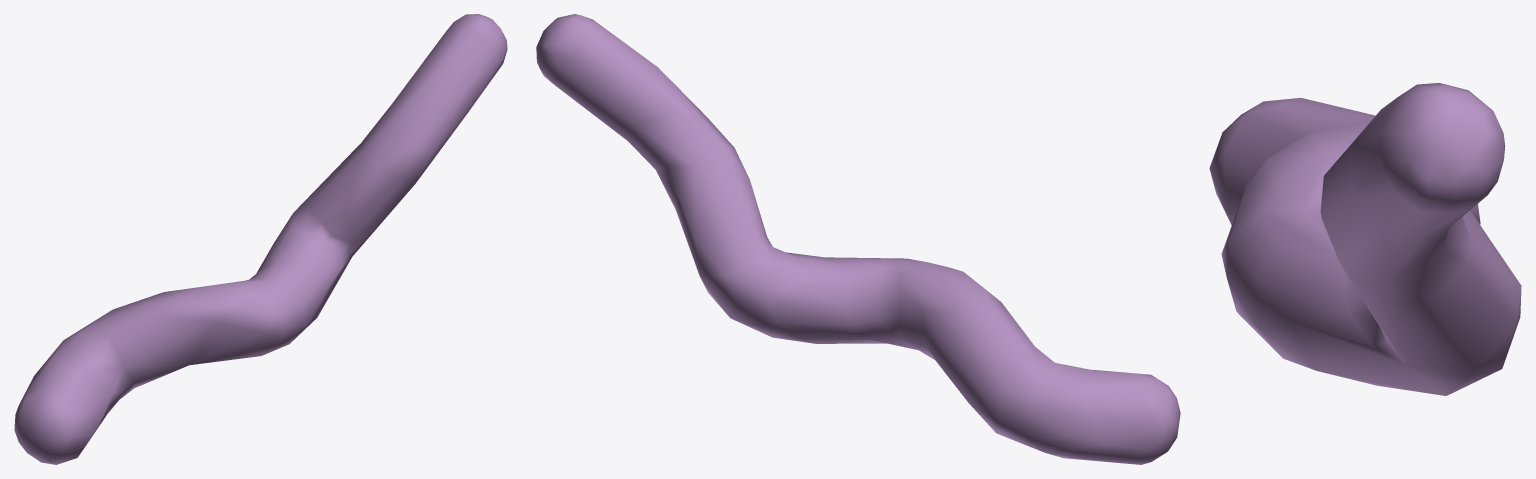
3 views of the same model, side by side, from view 1: azimuth 30°, elevation 25°; view 2: azimuth 150°, elevation 25°; view 3: azimuth 270°, elevation 25° (orthographic). The views are drawn at different scales.
Parts seen in each view (by area): view 1: 阑尾; view 2: 阑尾; view 3: 阑尾.
Boxes of the visible parts, x1,y1,x2,y2 form: 阑尾: (14,14,507,464); 阑尾: (536,14,1180,464); 阑尾: (1209,83,1521,395).
Bounding box in the file's own units: 0.1025 × 0.0575 × 0.0266.
